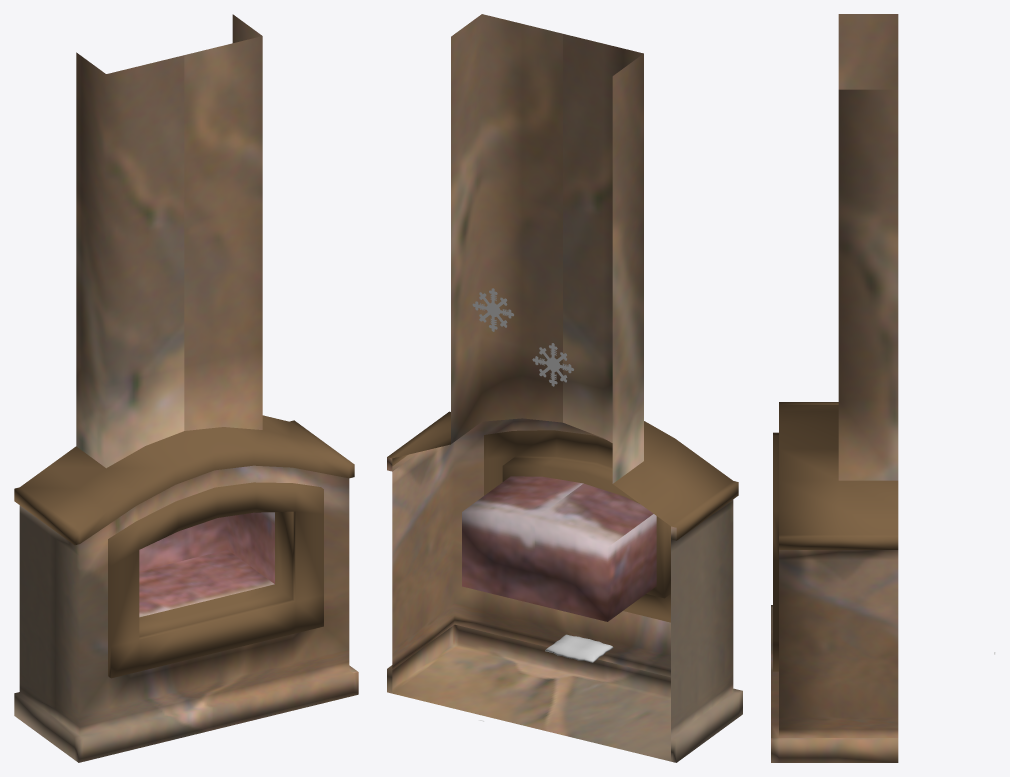
The model's file is oven.fbx.
The picture shows the model from 3 angles, left to right: view 1: azimuth 30°, elevation 25°; view 2: azimuth 150°, elevation 25°; view 3: azimuth 270°, elevation 25°; orthographic projection. The views are drawn at different scales.
Parts seen in each view (by area): view 1: Plane.991; view 2: Plane.991, Plane.005; view 3: Plane.991.
Part boxes in pixels (x1,y1,x2,y2): Plane.991: [14, 14, 358, 762]; Plane.991: [387, 14, 742, 762]; Plane.005: [545, 634, 613, 662]; Plane.991: [771, 14, 898, 762].
Bounding box in the file's own units: 96.6 × 214 × 67.78.
